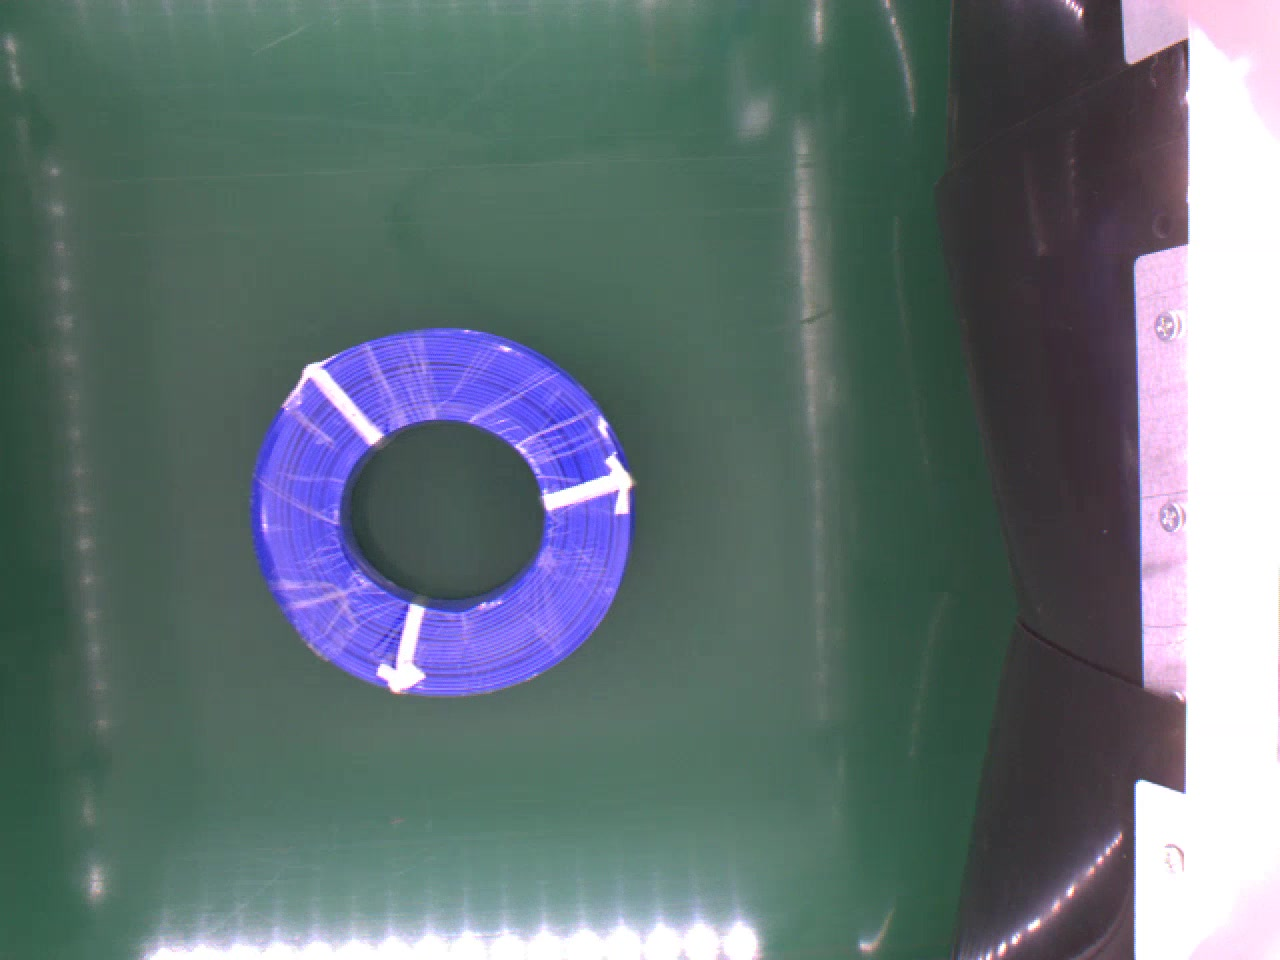blue: (247, 321, 635, 702)
